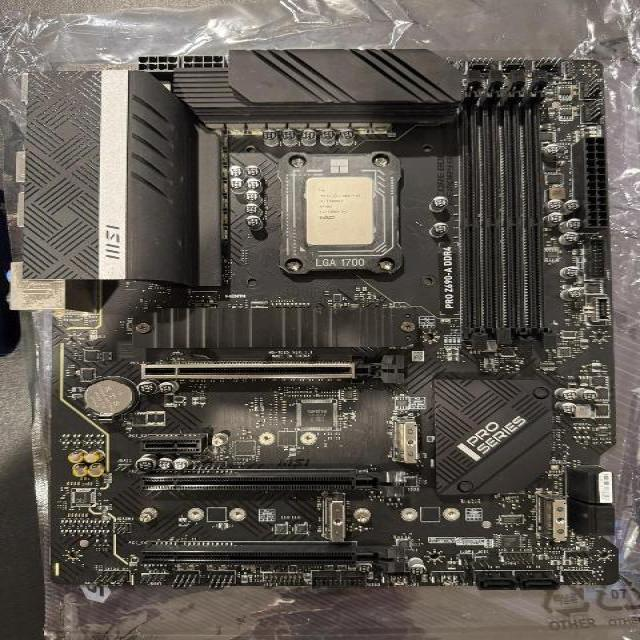CPU: (303, 176, 377, 247)
